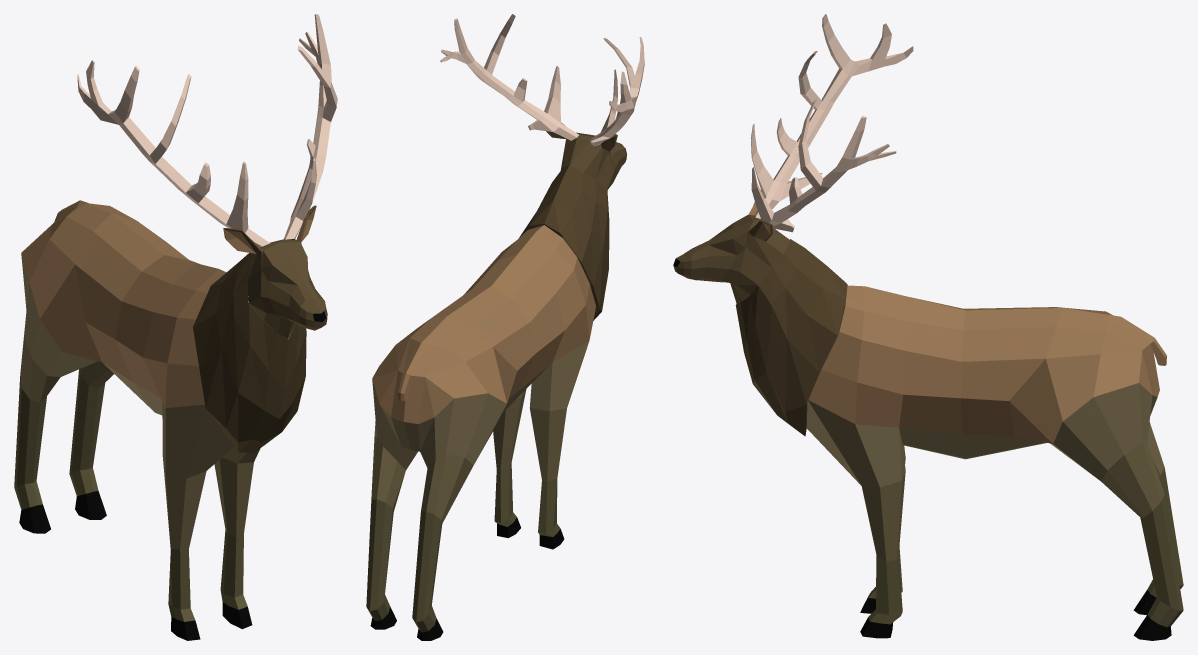
The model's file is prop_pa_deer_2.glb.
The picture shows the model from 3 angles, left to right: view 1: azimuth 30°, elevation 25°; view 2: azimuth 150°, elevation 25°; view 3: azimuth 270°, elevation 25°; orthographic projection. The views are drawn at different scales.
Parts seen in each view (by area): view 1: 09deerFinal; view 2: 09deerFinal; view 3: 09deerFinal.
Boxes of the visible parts, bbox=[...] form: 09deerFinal: bbox=[14, 14, 337, 640]; 09deerFinal: bbox=[366, 14, 644, 640]; 09deerFinal: bbox=[673, 14, 1183, 640].
Size of the model in its own units: 1.04 by 2.72 by 2.24.
1 material, 1 textured.
